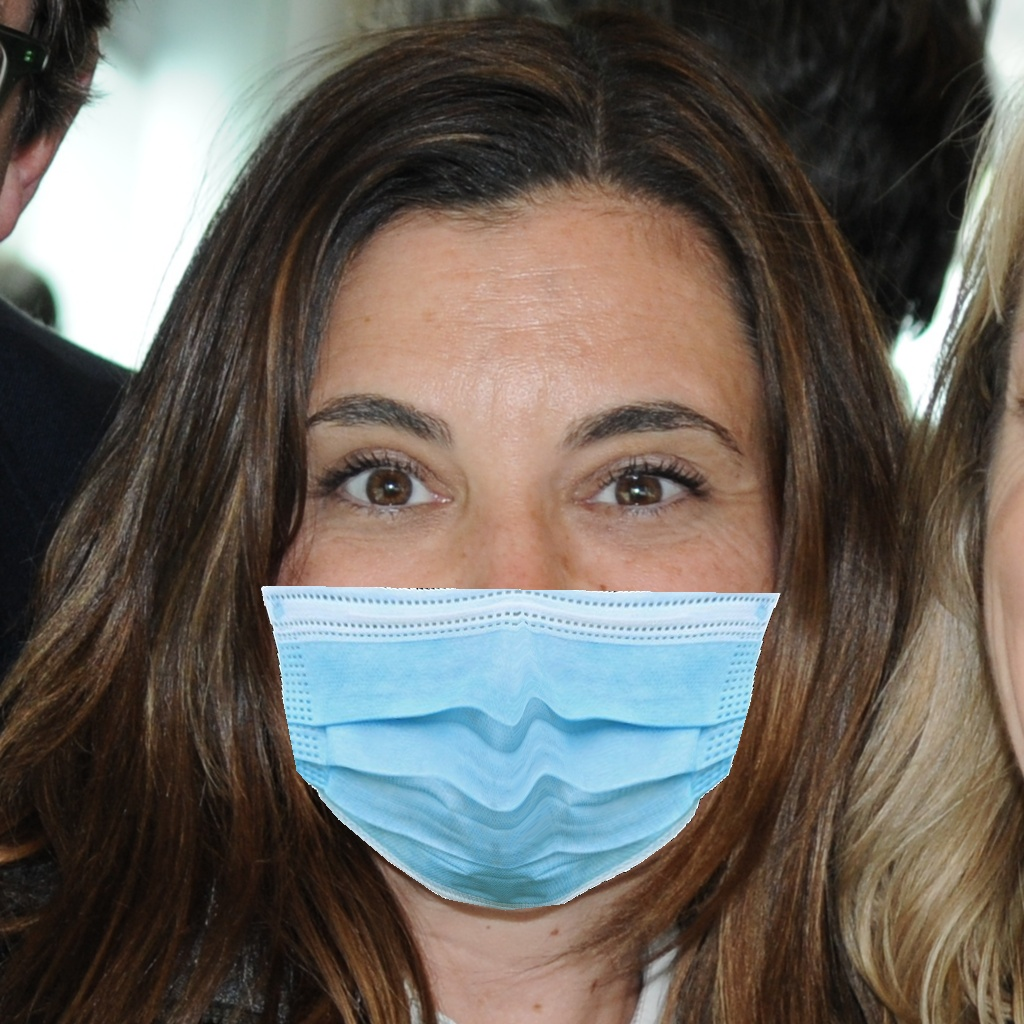Mask: (258, 345, 794, 917)
